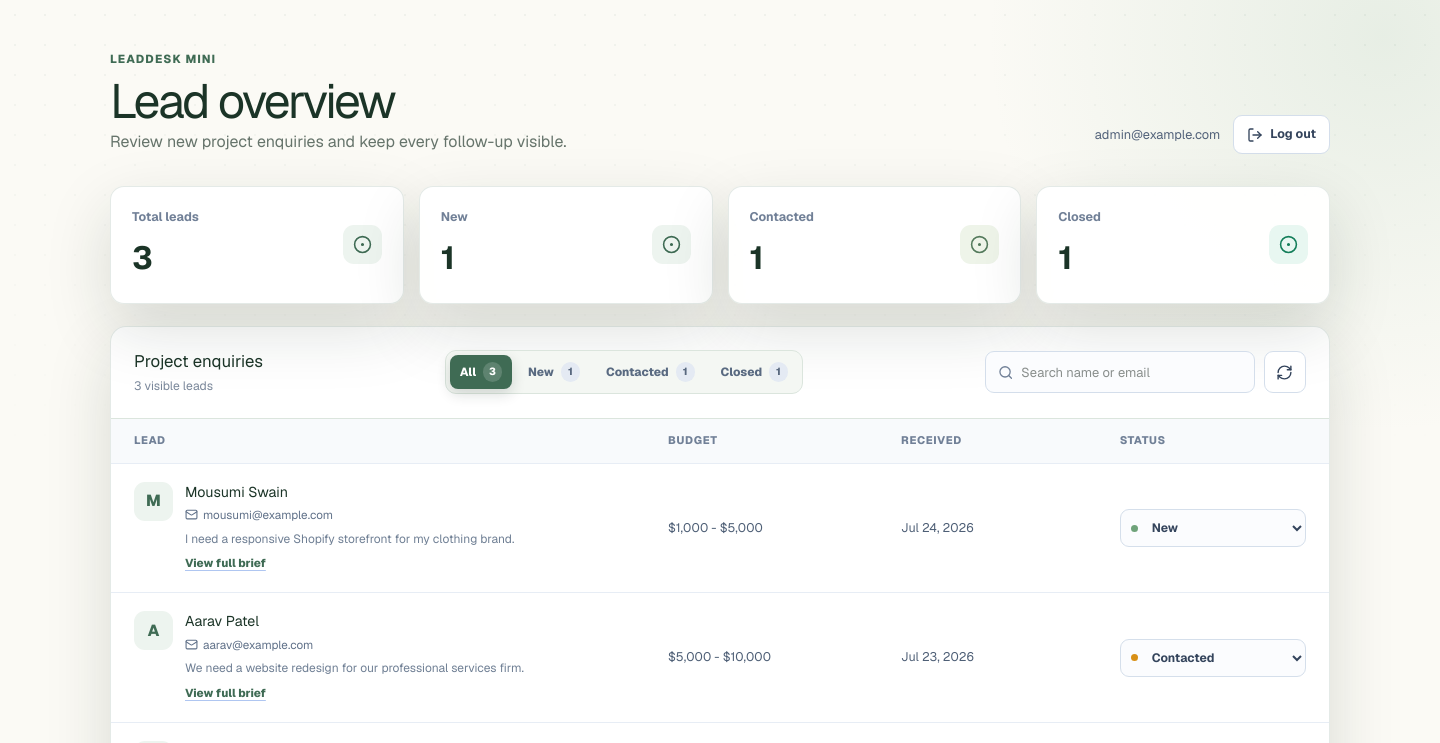
Test: AdminDashboard › restores the previous status if saving fails
The width and height of the screenshot is (1440, 743).
Select "Closed" in the dropdown named "Status for Mousumi Swain" at (1213, 528), box 1120,509 -> 1306,547
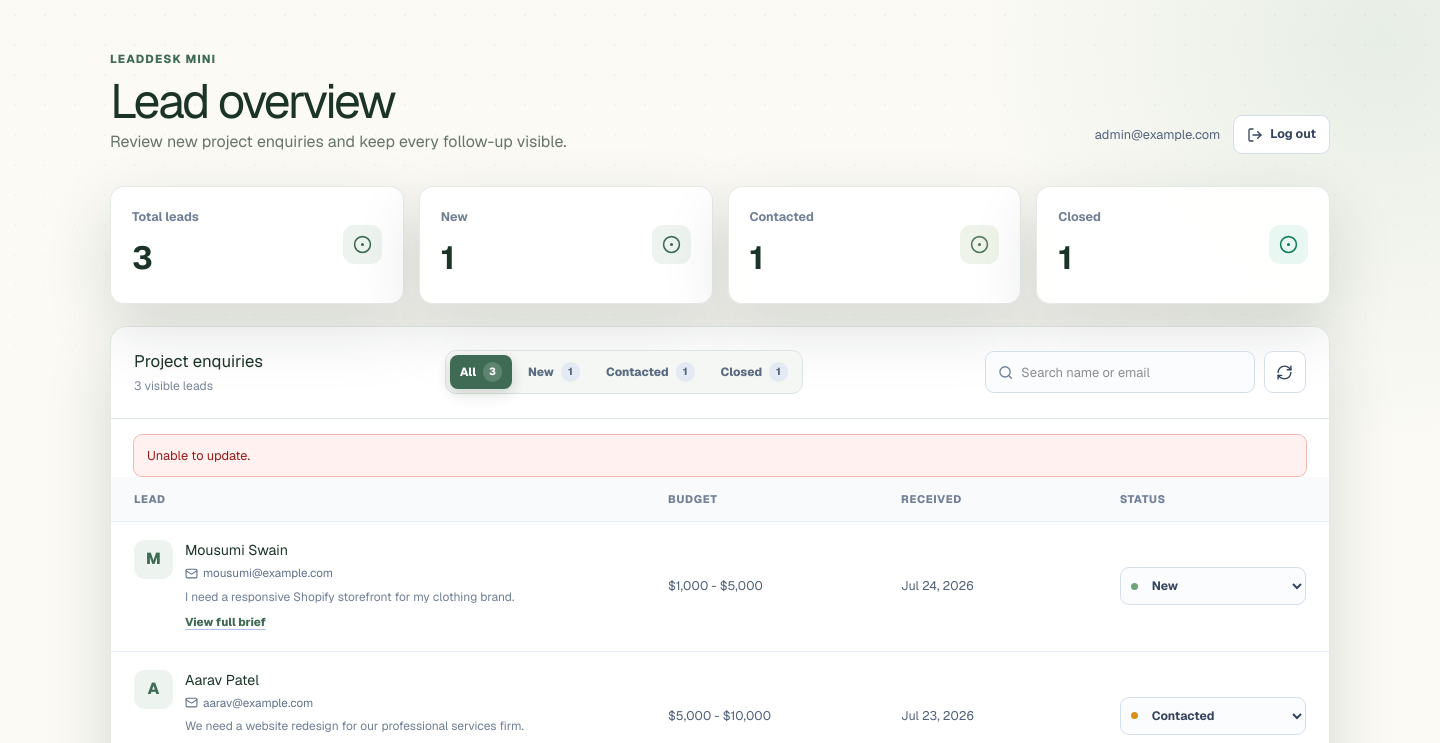
Expected: the message reads "Unable to update.", 147,447 -> 250,464
